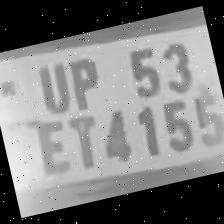1: (122, 94, 164, 162)
3: (153, 32, 198, 94)
4: (92, 101, 136, 167)
5: (153, 89, 197, 157), (182, 79, 224, 150), (118, 40, 165, 102)
E: (20, 112, 76, 187)
P: (60, 50, 107, 112)
T: (61, 106, 104, 176)
U: (29, 58, 75, 118)
